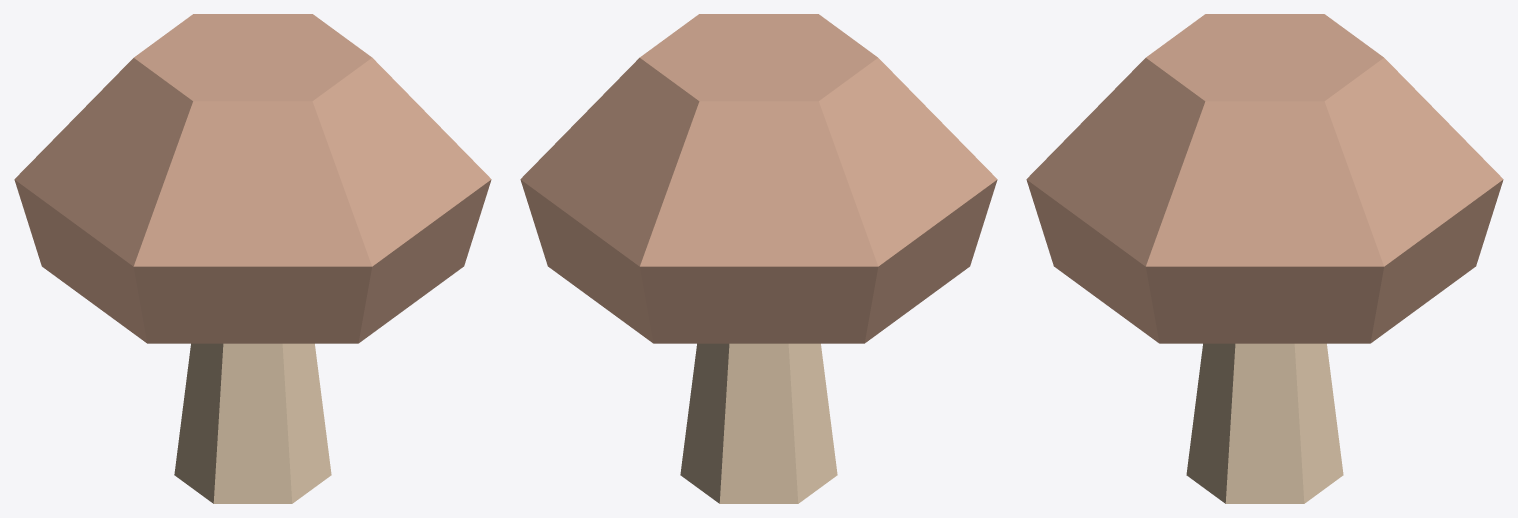
The model's file is mushroom.glb.
3 views of the same model, side by side, from view 1: azimuth 30°, elevation 25°; view 2: azimuth 150°, elevation 25°; view 3: azimuth 270°, elevation 25° (orthographic).
Visible parts, largest first — view 1: mushroom; view 2: mushroom; view 3: mushroom.
Boxes of the visible parts, bbox=[...] form: mushroom: bbox=[14, 14, 491, 503]; mushroom: bbox=[520, 14, 997, 503]; mushroom: bbox=[1026, 14, 1503, 503].
Bounding box in the file's own units: 0.1249 × 0.1392 × 0.1442.
